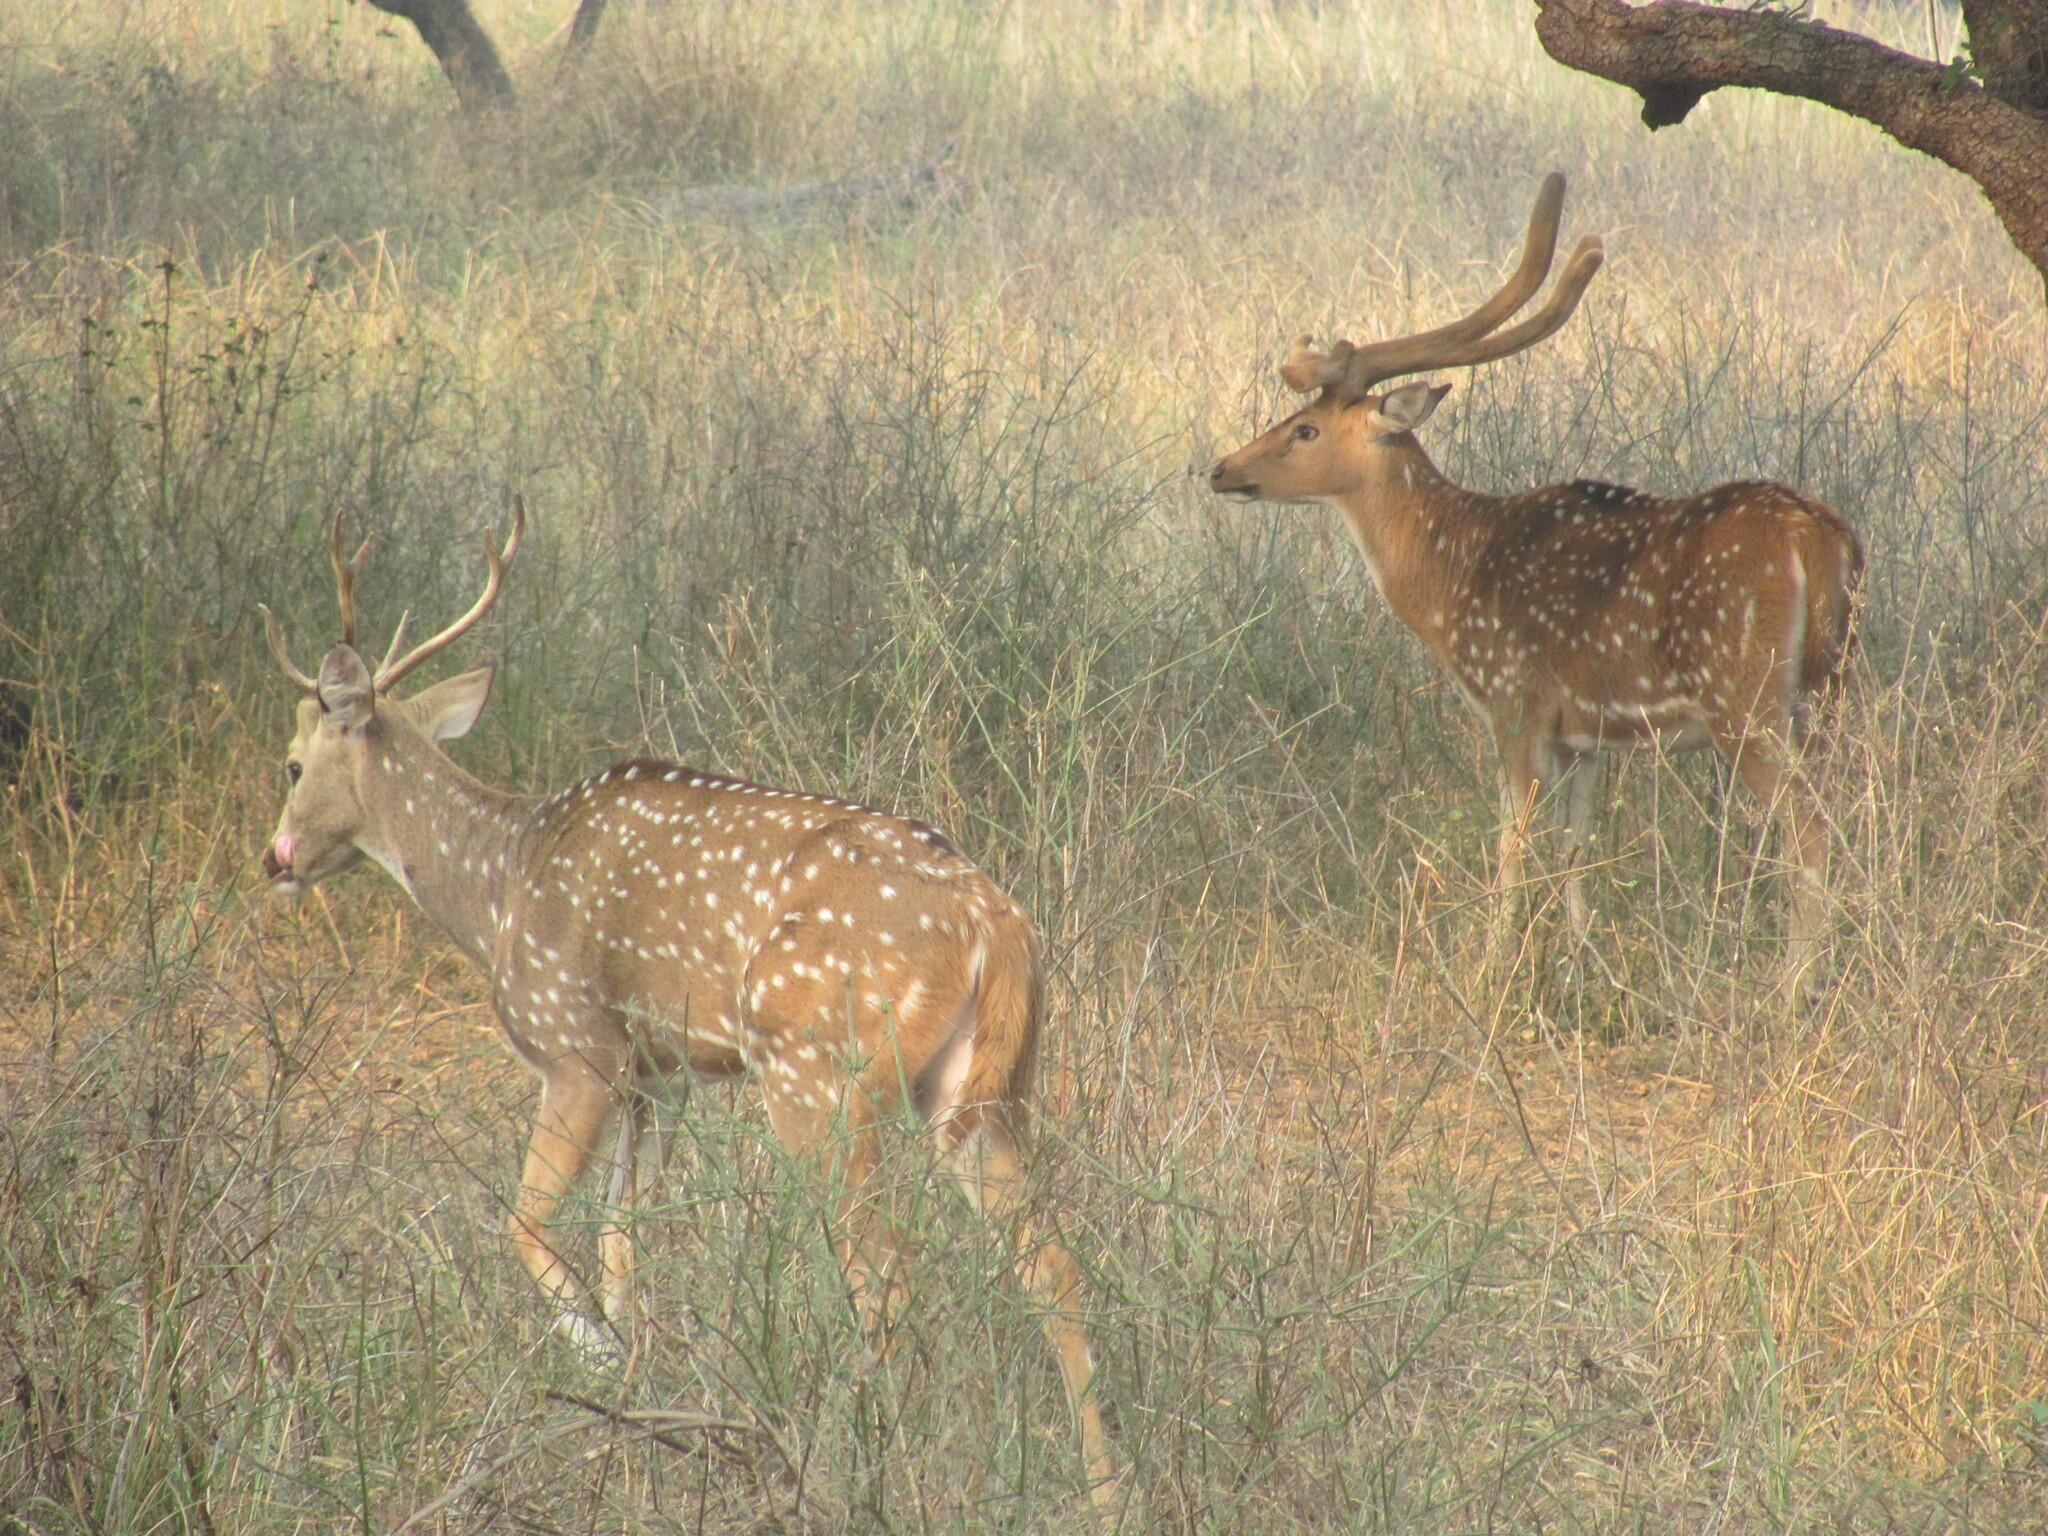Deer: (261, 499, 1039, 1325), (1208, 173, 1864, 992)
